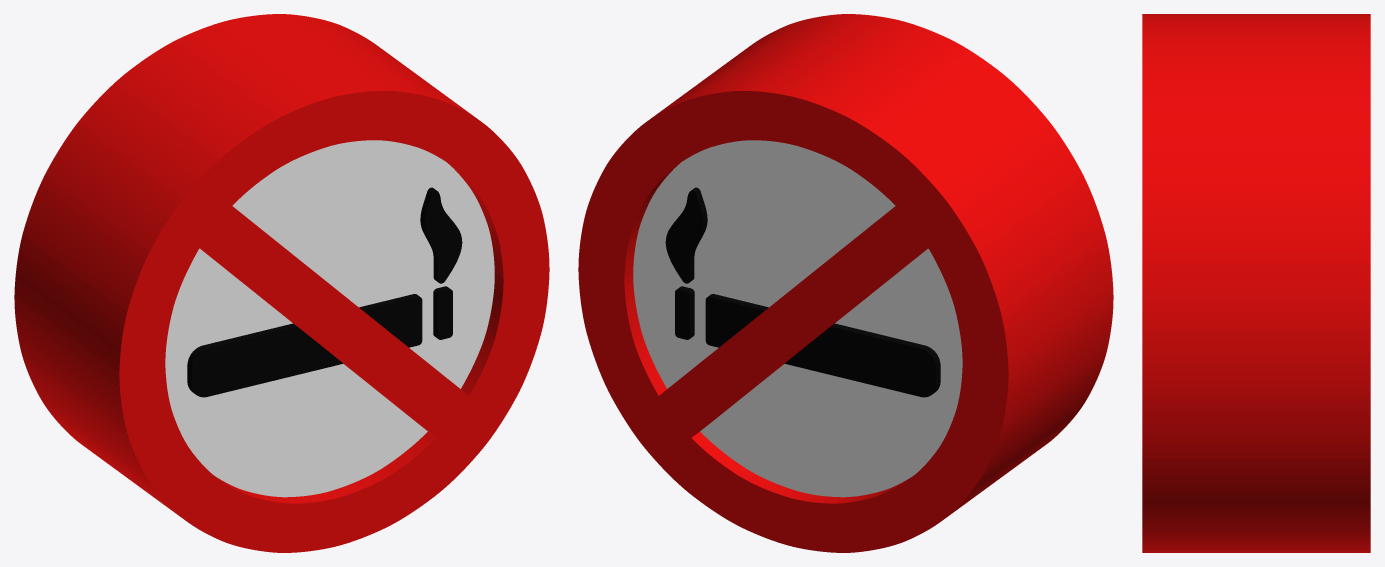
3 renders of one model, left to right at view 1: azimuth 30°, elevation 25°; view 2: azimuth 150°, elevation 25°; view 3: azimuth 270°, elevation 25°, orthographic. The views are drawn at different scales.
Visible parts, largest first — view 1: U+1F6AD_layer02_obj00, U+1F6AD_layer00_obj00, U+1F6AD_layer01_obj00; view 2: U+1F6AD_layer02_obj00, U+1F6AD_layer00_obj00, U+1F6AD_layer01_obj00; view 3: U+1F6AD_layer02_obj00.
Boxes of the visible parts, x1,y1,x2,y2 form: U+1F6AD_layer02_obj00: (14, 14, 549, 552); U+1F6AD_layer00_obj00: (165, 140, 494, 497); U+1F6AD_layer01_obj00: (187, 187, 462, 397); U+1F6AD_layer02_obj00: (578, 14, 1113, 552); U+1F6AD_layer00_obj00: (633, 140, 962, 497); U+1F6AD_layer01_obj00: (665, 187, 940, 397); U+1F6AD_layer02_obj00: (1142, 14, 1370, 552).
Bounding box in the file's own units: 0.5678 × 0.5677 × 0.24.
